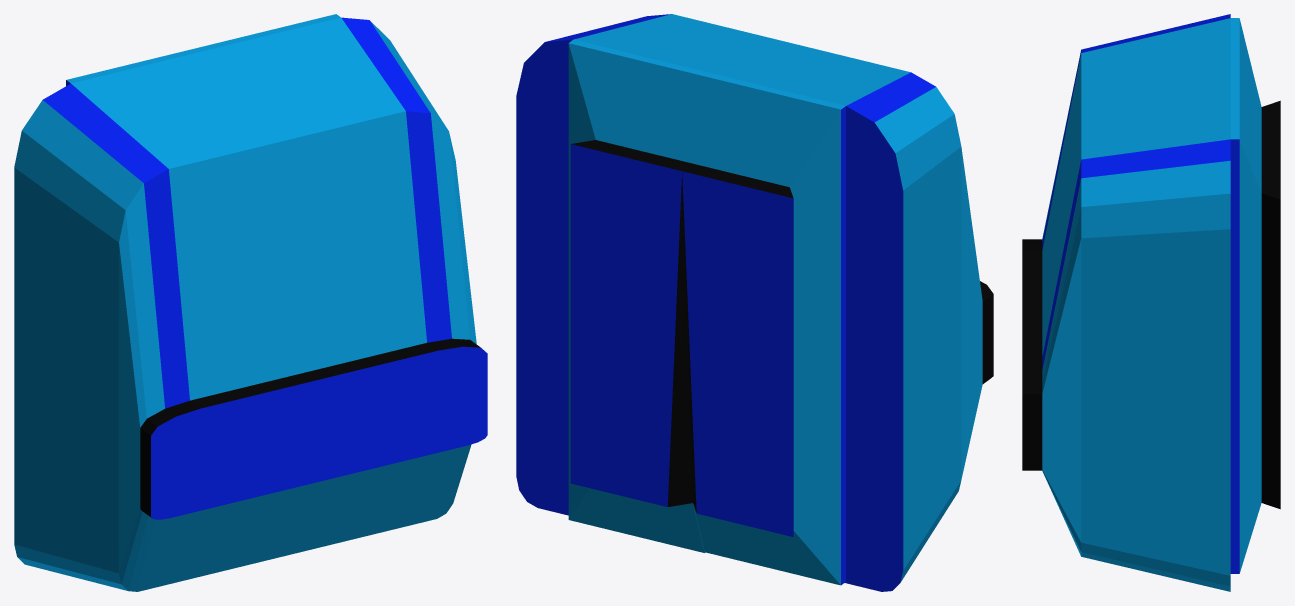
Rendered from Mochila.fbx.
3 renders of one model, left to right at view 1: azimuth 30°, elevation 25°; view 2: azimuth 150°, elevation 25°; view 3: azimuth 270°, elevation 25°, orthographic. The views are drawn at different scales.
Parts seen in each view (by area): view 1: Cube; view 2: Cube; view 3: Cube.
Boxes of the visible parts, bbox=[...] form: Cube: bbox=[14, 14, 487, 591]; Cube: bbox=[516, 14, 993, 591]; Cube: bbox=[1022, 14, 1280, 591].
Bounding box in the file's own units: 114 × 134 × 72.2.
